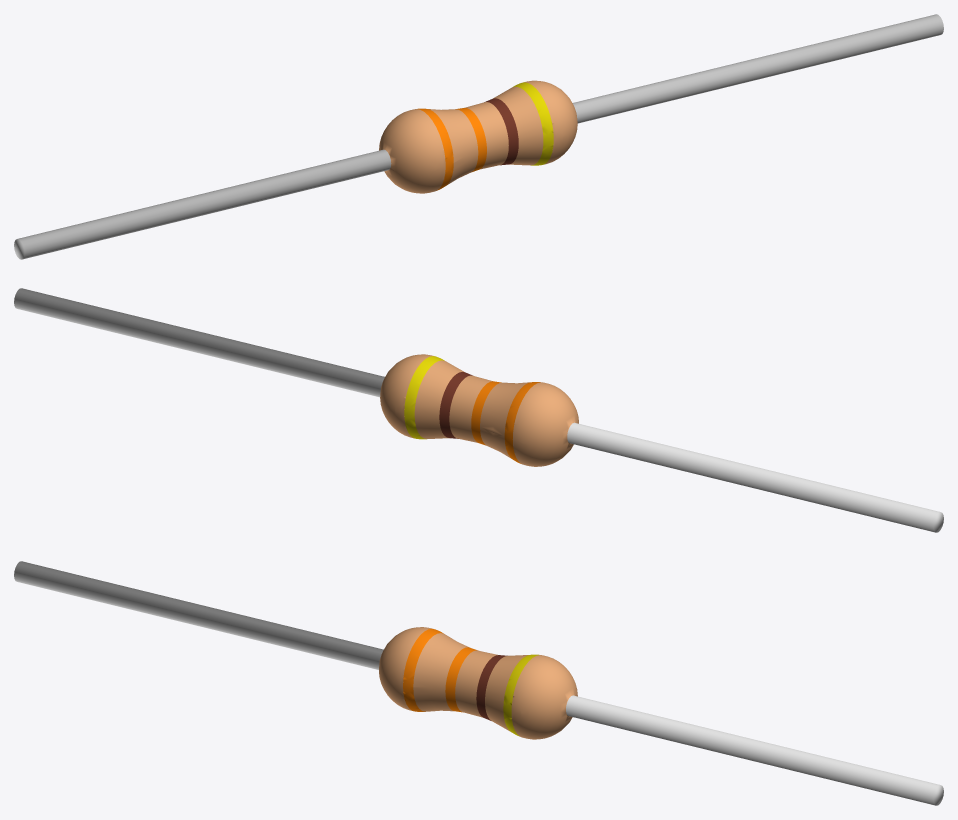
The model's file is resistor_330ohms.glb.
3 renders of one model, top to bottom at view 1: azimuth 30°, elevation 25°; view 2: azimuth 150°, elevation 25°; view 3: azimuth 330°, elevation 25°, orthographic.
Visible parts, largest first — view 1: METAL-material, CERAMICA-material, LARANJA-material, OURO-material, MARRON-material; view 2: METAL-material, CERAMICA-material, LARANJA-material, OURO-material, MARRON-material; view 3: METAL-material, CERAMICA-material, LARANJA-material, OURO-material, MARRON-material.
Part boxes in pixels (x1,y1,x2,y2): METAL-material: (14, 14, 943, 259); CERAMICA-material: (379, 80, 577, 193); LARANJA-material: (417, 108, 486, 190); OURO-material: (513, 82, 553, 165); MARRON-material: (484, 98, 518, 165); METAL-material: (14, 288, 943, 532); CERAMICA-material: (380, 354, 578, 466); LARANJA-material: (471, 381, 540, 463); OURO-material: (404, 356, 444, 439); MARRON-material: (439, 372, 472, 438); METAL-material: (14, 561, 943, 805); CERAMICA-material: (379, 627, 577, 739); LARANJA-material: (403, 628, 477, 712); OURO-material: (503, 654, 538, 736); MARRON-material: (476, 655, 507, 720).
Size of the model in its own units: 0.0299 by 0.0024 by 0.00241.
